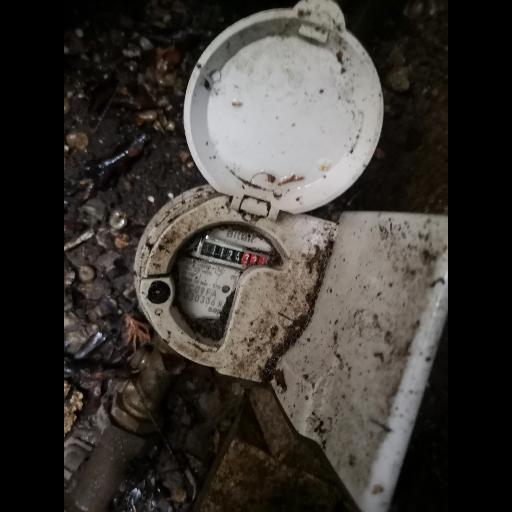0: (201, 242, 212, 256)
1: (209, 244, 219, 258), (217, 246, 227, 260)
2: (225, 248, 236, 262)
3: (249, 254, 258, 268), (242, 253, 251, 266)
4: (234, 251, 243, 265)
border_water_meter_number: (190, 236, 271, 276)
